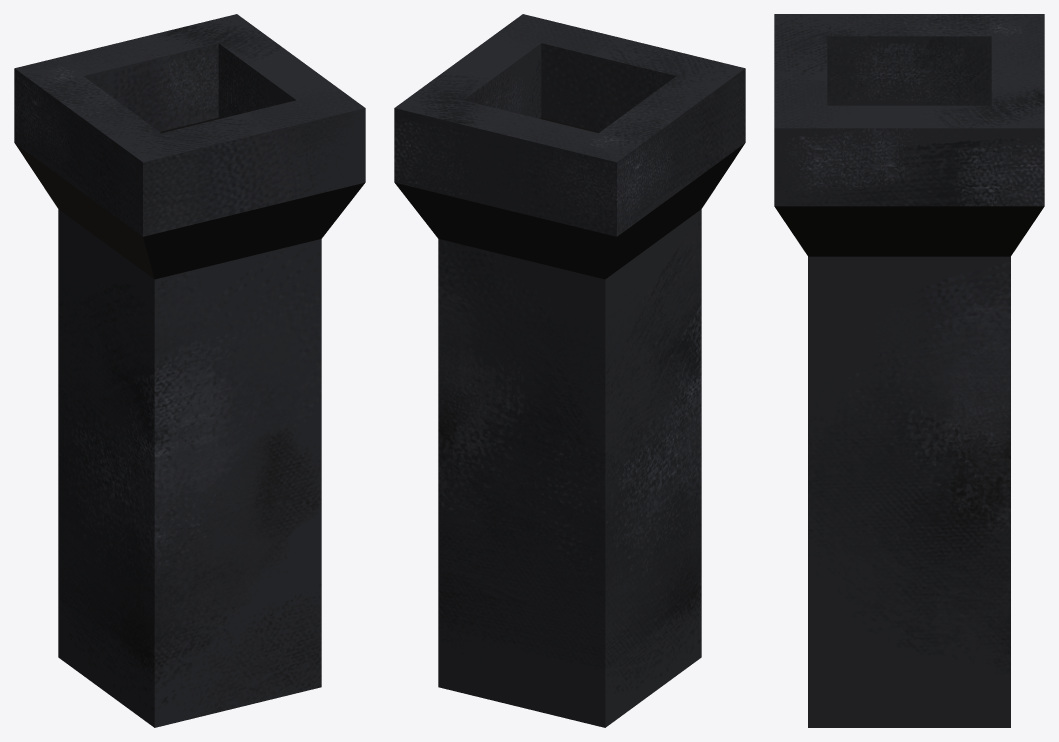
File: chimney.fbx
3 renders of one model, left to right at view 1: azimuth 30°, elevation 25°; view 2: azimuth 150°, elevation 25°; view 3: azimuth 270°, elevation 25°, orthographic. The views are drawn at different scales.
Visible parts, largest first — view 1: chimney; view 2: chimney; view 3: chimney.
Boxes of the visible parts, x1,y1,x2,y2 form: chimney: (14, 14, 365, 727); chimney: (394, 14, 745, 727); chimney: (774, 14, 1044, 727).
Size of the model in its own units: 80 by 201 by 80.
